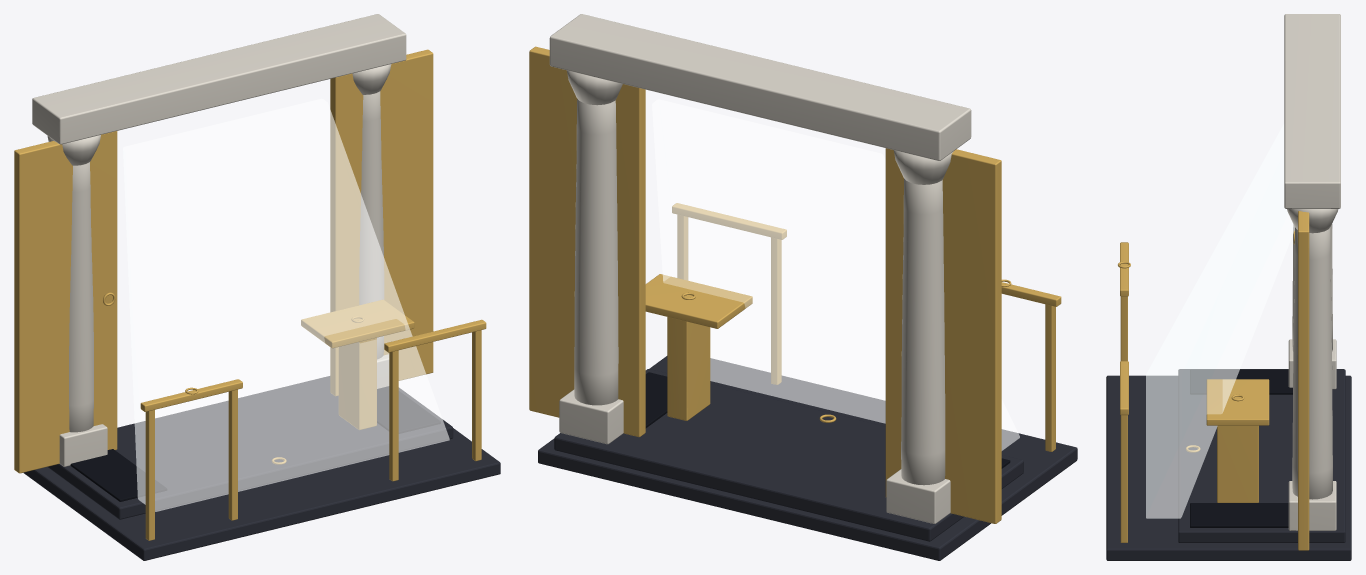
The model's file is webtoon-slit-godray-climax-100pct-v21.glb.
3 renders of one model, left to right at view 1: azimuth 30°, elevation 25°; view 2: azimuth 150°, elevation 25°; view 3: azimuth 270°, elevation 25°, orthographic. The views are drawn at different scales.
Parts seen in each view (by area): view 1: Volumetric_Beat3_100Pct_GodRaySlit, Articulated_Beat3_100Pct_DoorsAndIkRig, Beat3_100Pct_DatumDeck, Beat3_100Pct_PortalColonnade, ShadowDrift_Beat3_100Pct_UmbraMask; view 2: Articulated_Beat3_100Pct_DoorsAndIkRig, Beat3_100Pct_PortalColonnade, Volumetric_Beat3_100Pct_GodRaySlit, Beat3_100Pct_DatumDeck, ShadowDrift_Beat3_100Pct_UmbraMask; view 3: Beat3_100Pct_DatumDeck, Volumetric_Beat3_100Pct_GodRaySlit, Beat3_100Pct_PortalColonnade, Articulated_Beat3_100Pct_DoorsAndIkRig, ShadowDrift_Beat3_100Pct_UmbraMask.
Boxes of the visible parts, x1,y1,x2,y2 form: Volumetric_Beat3_100Pct_GodRaySlit: (123, 98, 449, 511); Articulated_Beat3_100Pct_DoorsAndIkRig: (14, 49, 486, 540); Beat3_100Pct_DatumDeck: (23, 376, 500, 560); Beat3_100Pct_PortalColonnade: (32, 14, 406, 466); ShadowDrift_Beat3_100Pct_UmbraMask: (70, 386, 440, 501); Articulated_Beat3_100Pct_DoorsAndIkRig: (529, 46, 1061, 523); Beat3_100Pct_PortalColonnade: (549, 14, 971, 523); Volumetric_Beat3_100Pct_GodRaySlit: (652, 99, 1019, 450); Beat3_100Pct_DatumDeck: (538, 356, 1077, 560); ShadowDrift_Beat3_100Pct_UmbraMask: (645, 372, 1010, 468); Beat3_100Pct_DatumDeck: (1106, 369, 1351, 560); Volumetric_Beat3_100Pct_GodRaySlit: (1146, 124, 1294, 518); Beat3_100Pct_PortalColonnade: (1284, 14, 1340, 530); Articulated_Beat3_100Pct_DoorsAndIkRig: (1118, 211, 1309, 550); ShadowDrift_Beat3_100Pct_UmbraMask: (1190, 369, 1292, 527).
Bounding box in the file's own units: 3.2 × 2.78 × 1.64.
